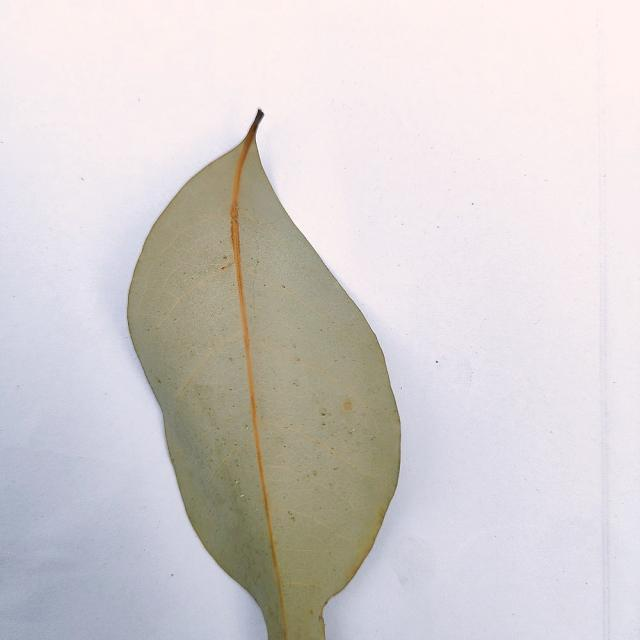Dry_Leaf-Lychee: (125, 112, 402, 639)
